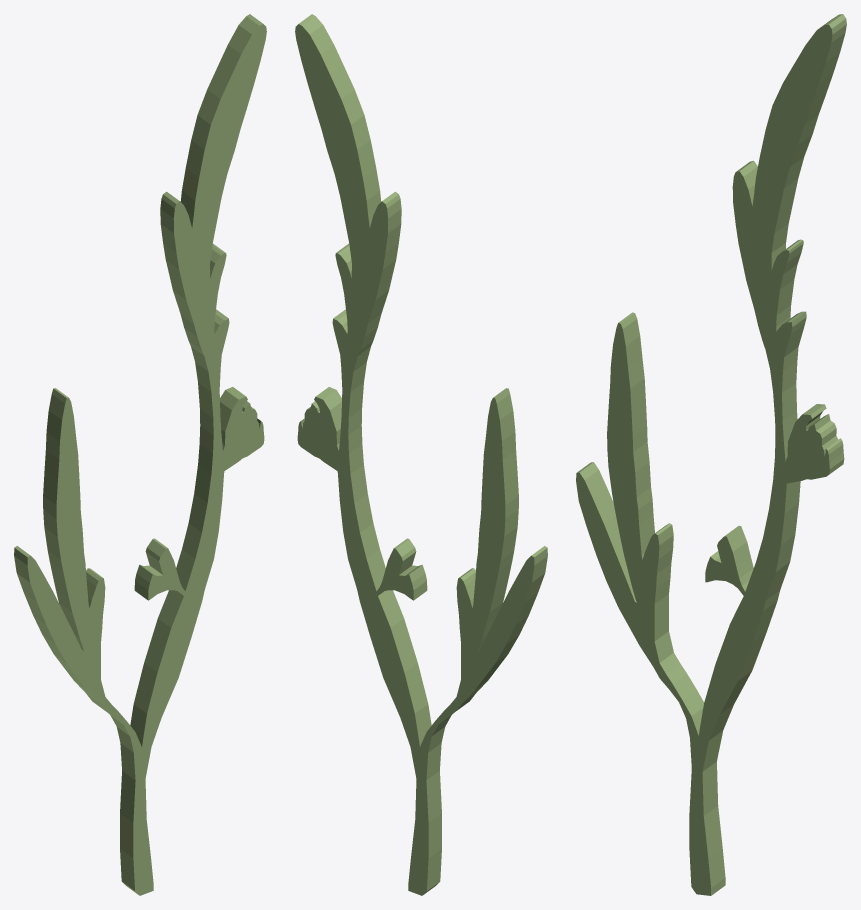
File: Leaf_2.fbx
3 renders of one model, left to right at view 1: azimuth 30°, elevation 25°; view 2: azimuth 150°, elevation 25°; view 3: azimuth 330°, elevation 25°, orthographic. The views are drawn at different scales.
Parts seen in each view (by area): view 1: pPlane34; view 2: pPlane34; view 3: pPlane34.
Boxes of the visible parts, x1,y1,x2,y2 form: pPlane34: (14,14,266,895); pPlane34: (295,14,547,895); pPlane34: (576,14,846,895).
Size of the model in its own units: 0.2057 by 0.6912 by 0.02.
